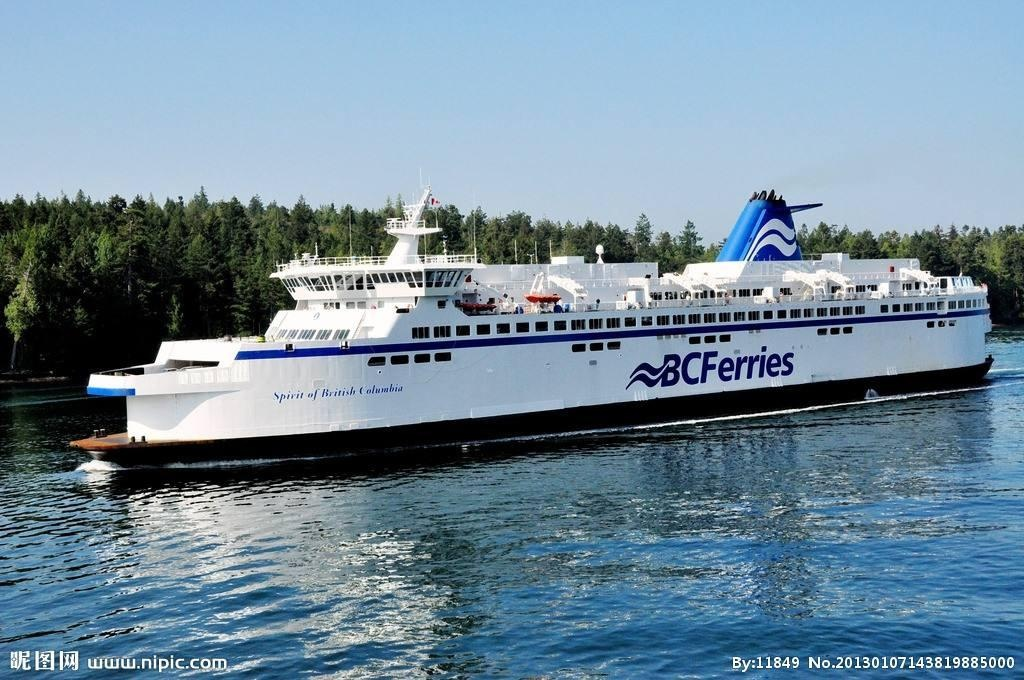youlun: (78, 180, 996, 461)
